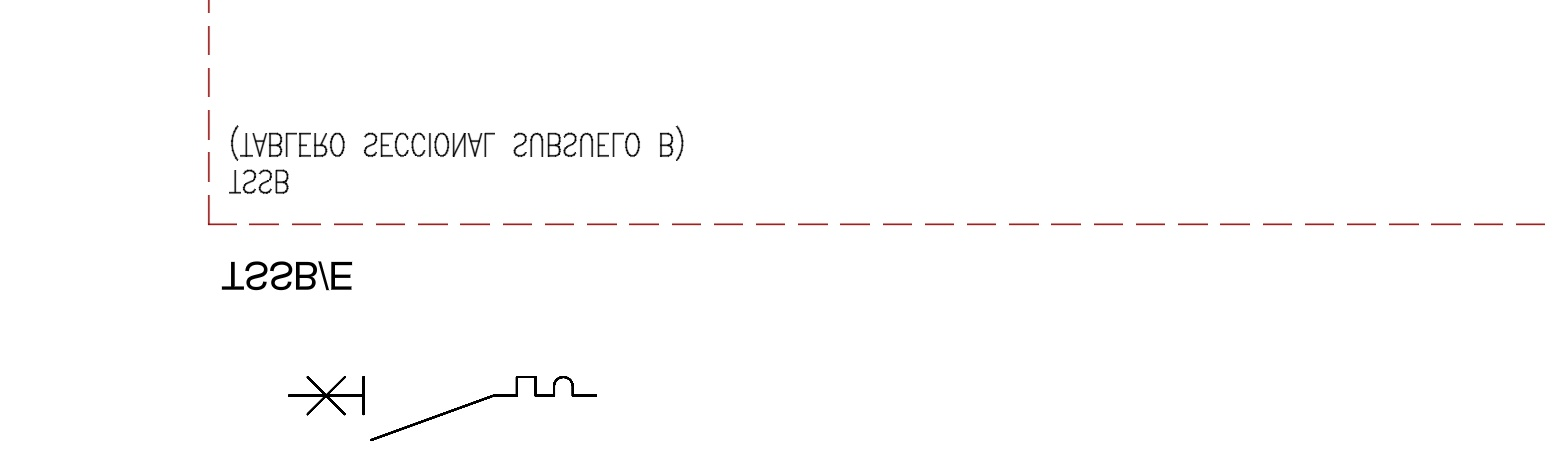interruptor_termomagnetico: (281, 369, 604, 448)
